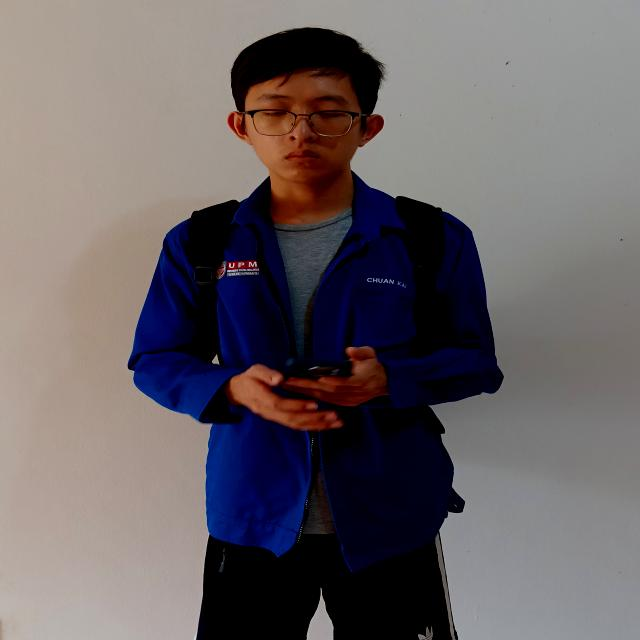person_with_labcoat: (129, 28, 503, 640)
